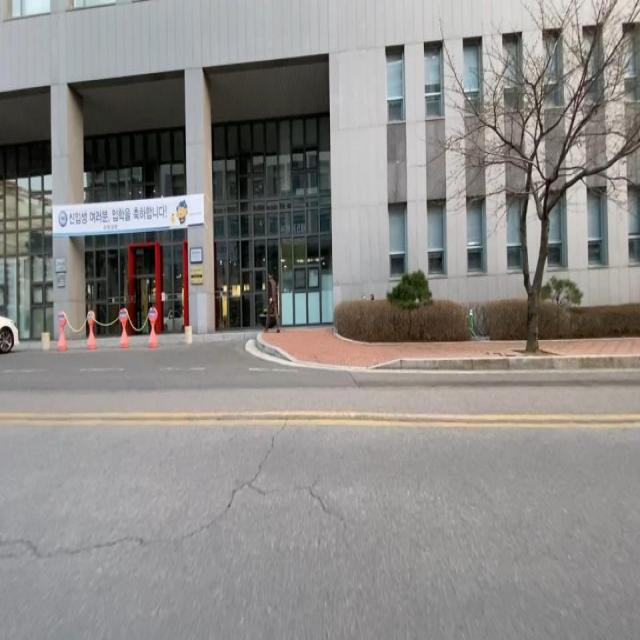sidewalk: (257, 328, 640, 369)
